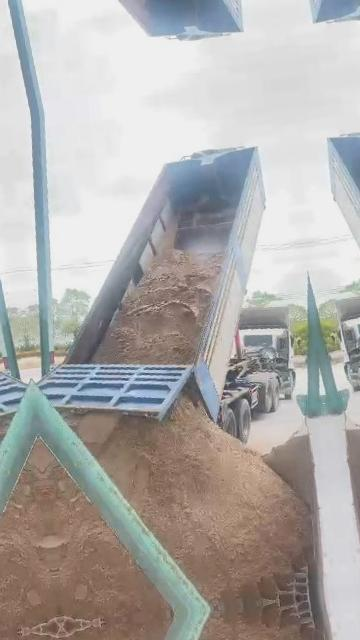sand: (68, 378, 310, 606), (42, 461, 169, 621), (93, 250, 222, 364), (264, 430, 315, 507)
